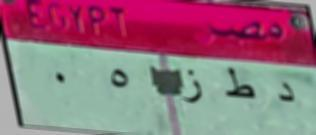0: (43, 67, 75, 91)
5: (92, 61, 137, 98)
Taa: (220, 63, 255, 109)
daal: (269, 77, 301, 112)
zay: (178, 64, 208, 112)
